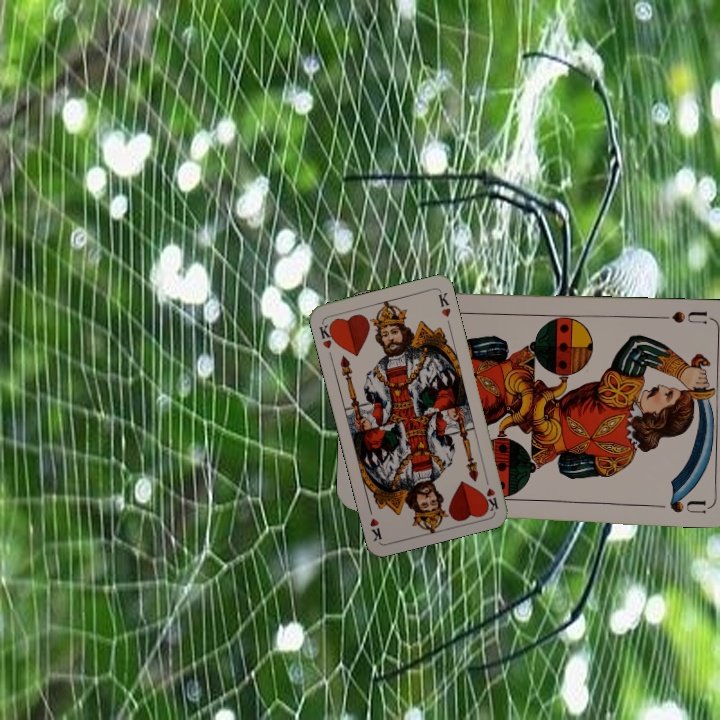HK: (481, 472, 501, 513), (315, 319, 338, 351)
SU: (656, 307, 709, 326)
